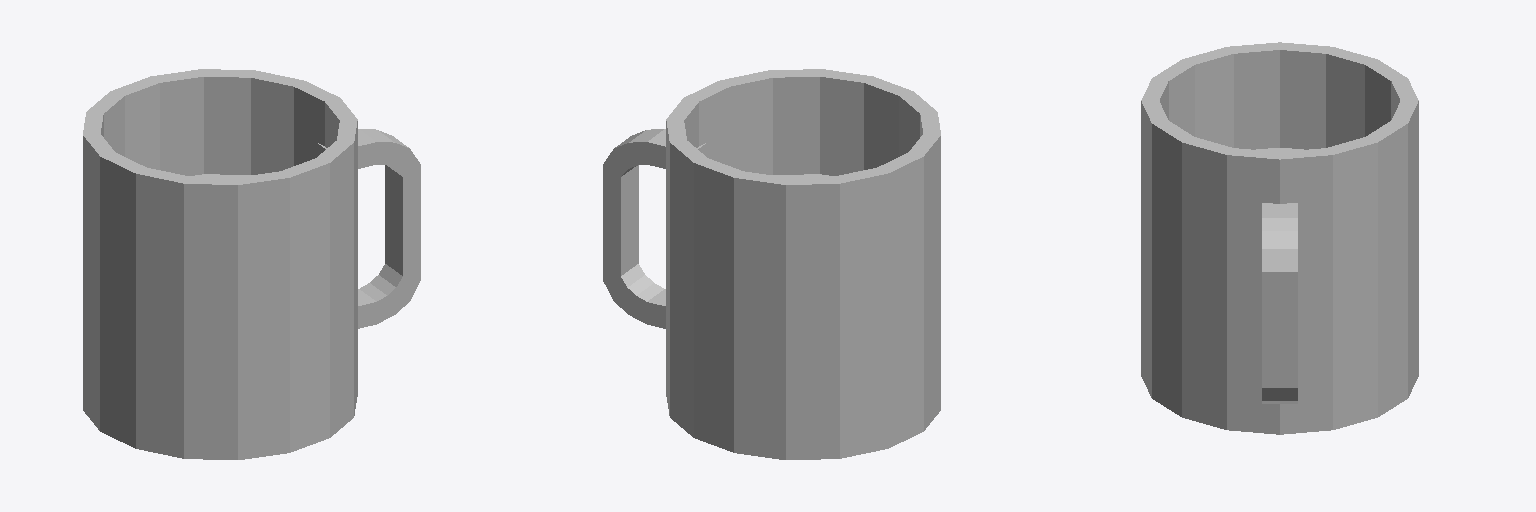
Rendered from SM_TazaB.obj.
3 views of the same model, side by side, from view 1: azimuth 30°, elevation 25°; view 2: azimuth 150°, elevation 25°; view 3: azimuth 270°, elevation 25° (orthographic).
Parts seen in each view (by area): view 1: TazaB; view 2: TazaB; view 3: TazaB.
Part boxes in pixels (x1,y1,x2,y2): TazaB: (83, 69, 420, 459); TazaB: (603, 69, 940, 459); TazaB: (1141, 42, 1418, 434).
Size of the model in its own units: 1.07 by 0.9059 by 0.8277.